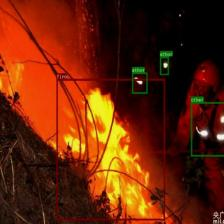fire: (56, 78, 165, 220)
